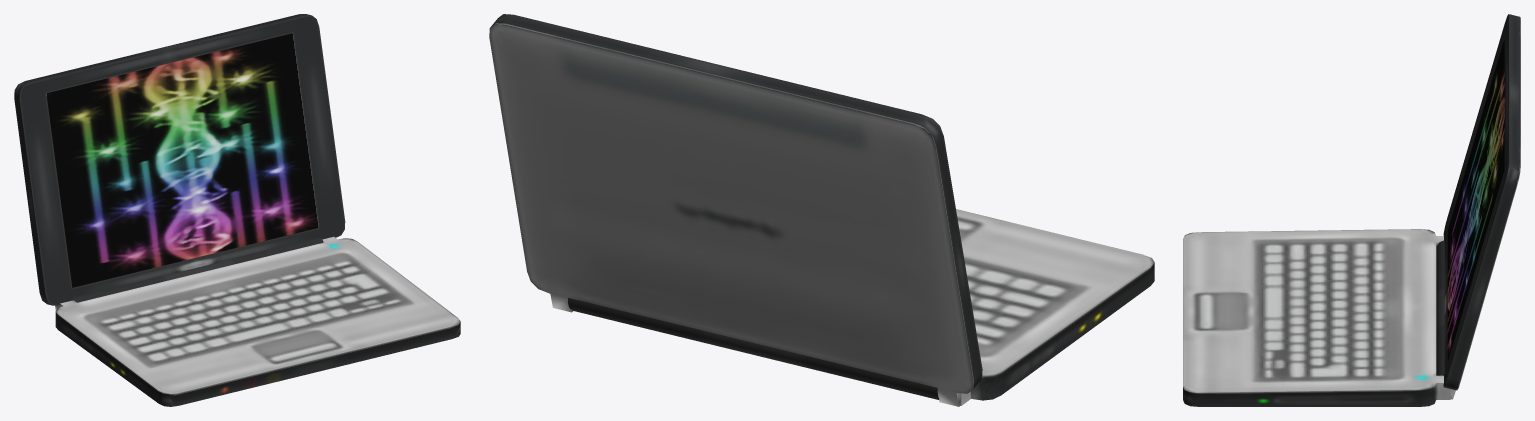
File: Laptop_HD.fbx
The picture shows the model from 3 angles, left to right: view 1: azimuth 30°, elevation 25°; view 2: azimuth 150°, elevation 25°; view 3: azimuth 270°, elevation 25°; orthographic projection. The views are drawn at different scales.
Visible parts, largest first — view 1: Laptop; view 2: Laptop; view 3: Laptop.
Part boxes in pixels (x1=…): Laptop: x1=14, y1=14, x2=460, y2=406; Laptop: x1=489, y1=14, x2=1154, y2=406; Laptop: x1=1183, y1=14, x2=1520, y2=406.
Size of the model in its own units: 0.4539 by 0.3114 by 0.403.
